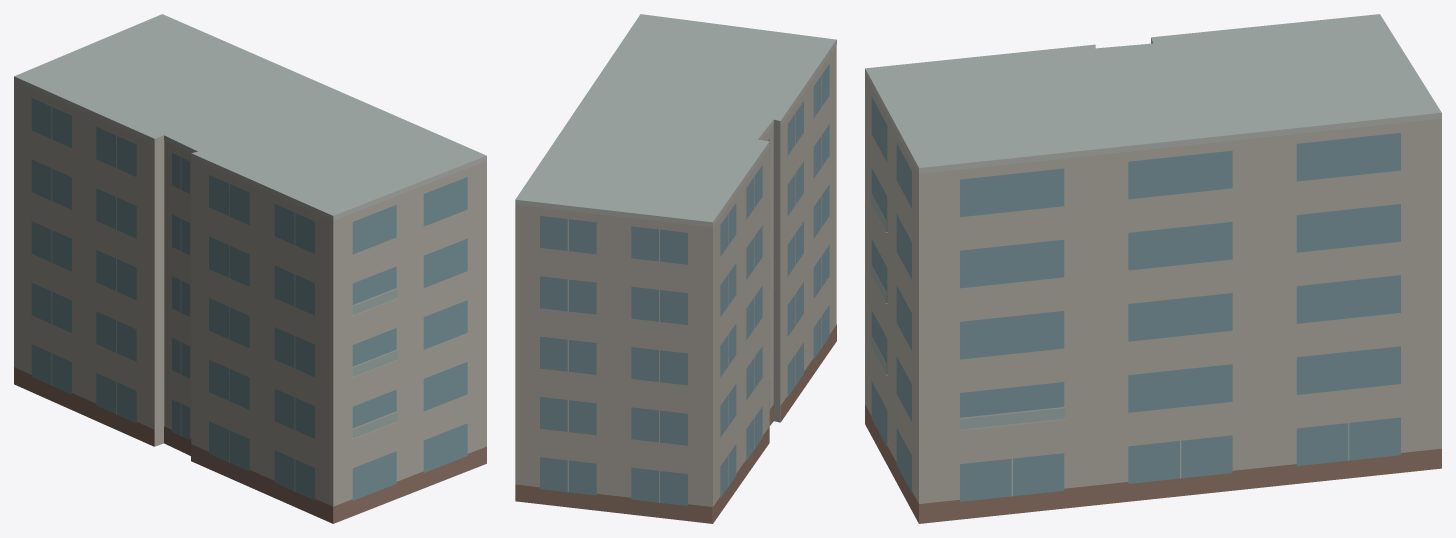
Rendered from survey-upis-32623150.glb.
The picture shows the model from 3 angles, left to right: view 1: azimuth 30°, elevation 25°; view 2: azimuth 150°, elevation 25°; view 3: azimuth 270°, elevation 25°; orthographic projection. The views are drawn at different scales.
Parts seen in each view (by area): view 1: survey-upis-32623150.tmp; view 2: survey-upis-32623150.tmp; view 3: survey-upis-32623150.tmp.
Boxes of the visible parts, <box> form: survey-upis-32623150.tmp: <box>14,14,486,523</box>; survey-upis-32623150.tmp: <box>515,14,836,523</box>; survey-upis-32623150.tmp: <box>865,14,1441,523</box>.
Size of the model in its own units: 13.83 by 14.88 by 21.87.
